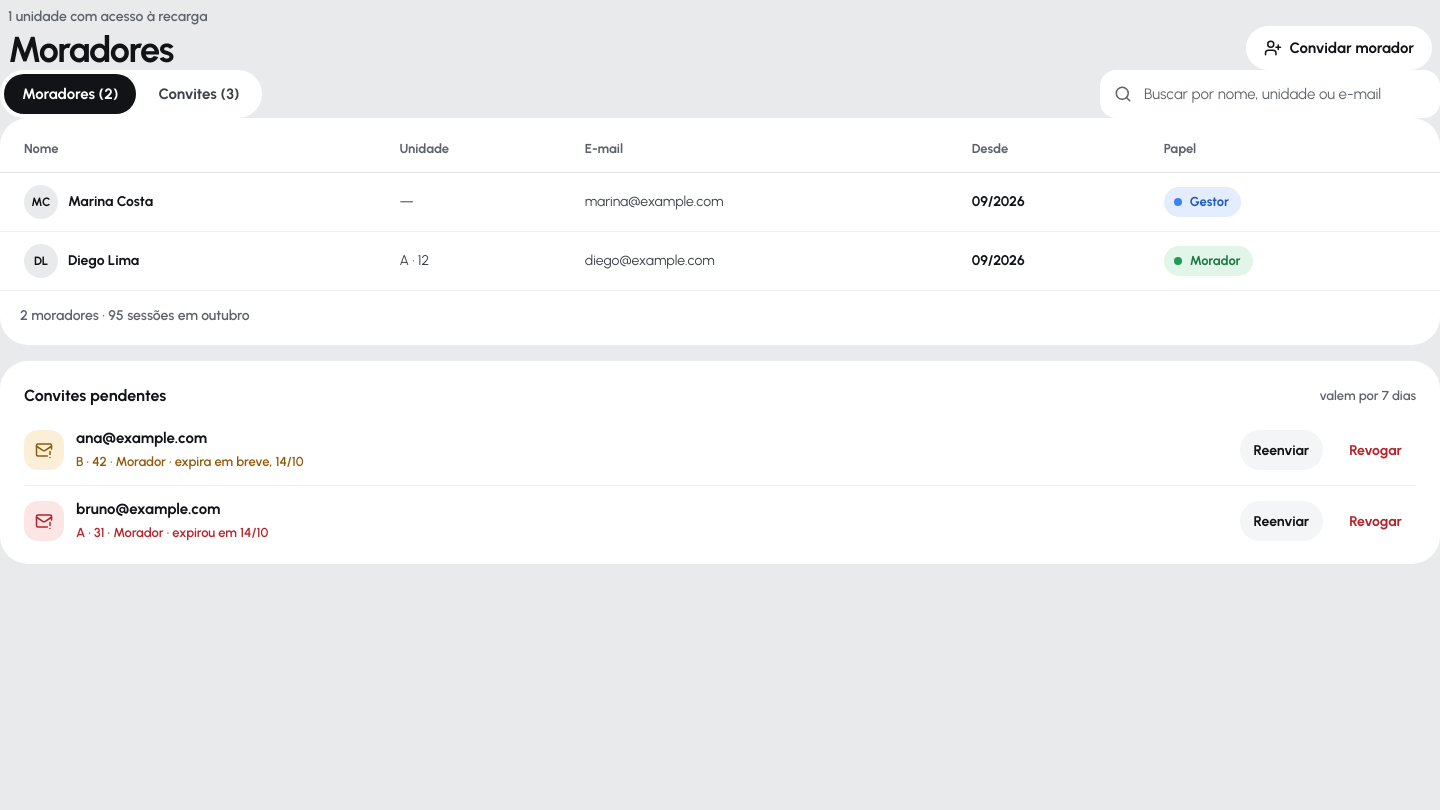
Test: ResidentsRoute › shows a toast when the invite can no longer be changed
Click the button with aria-label "Revogar convite para ana@example.com" at (1376, 450), box [1335,430,1416,470]
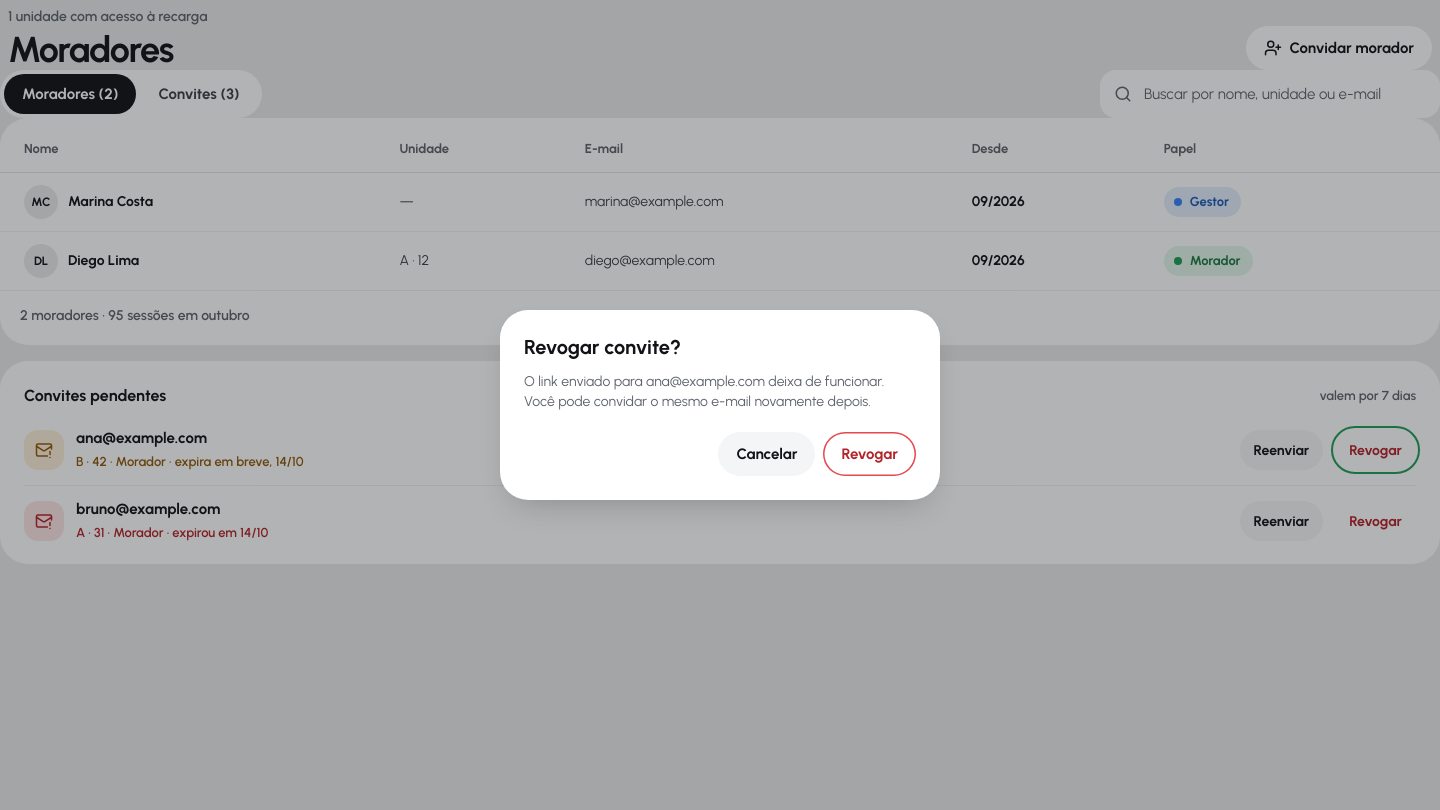
Click the button "Revogar" at (870, 454), box [823,432,916,476]
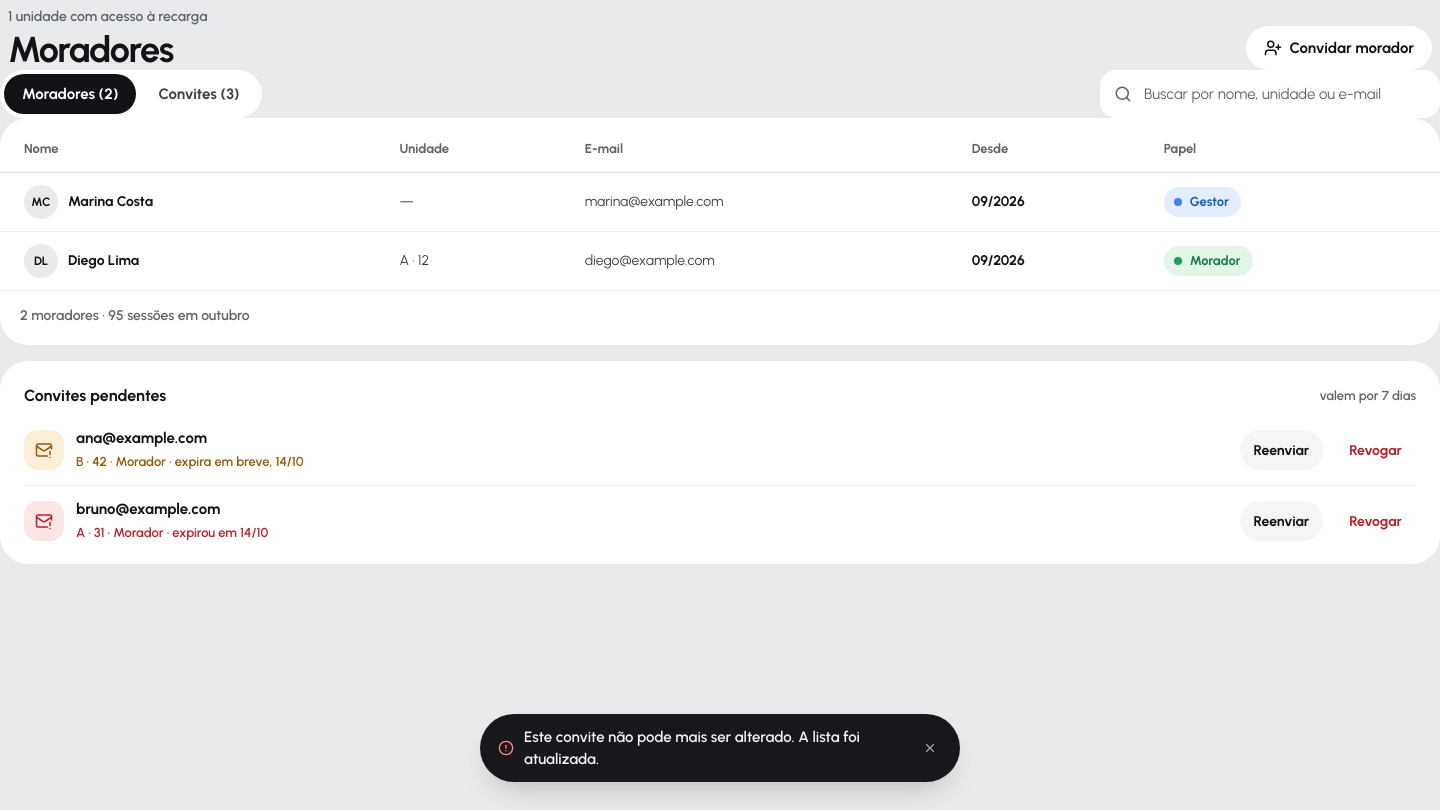
Expected: the text "Este convite não pode mais ser alterado. A lista foi atualizada." is shown, [524,726,904,770]
